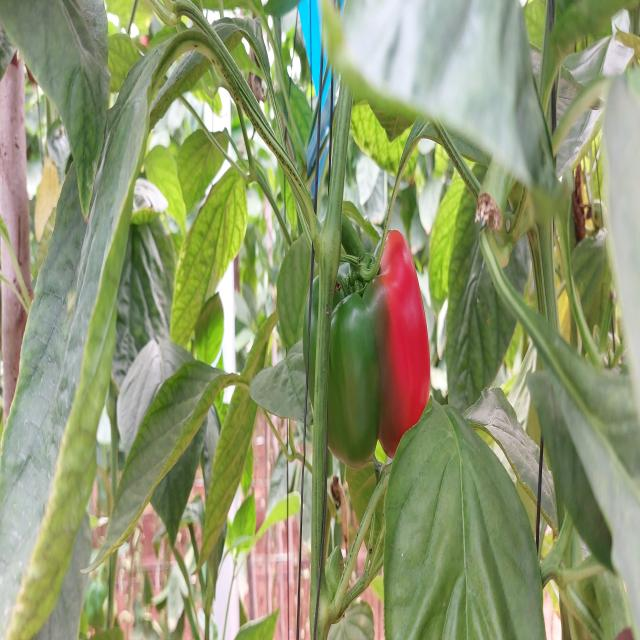BrownishRed--Can-be-Harvested: (301, 259, 444, 467)
